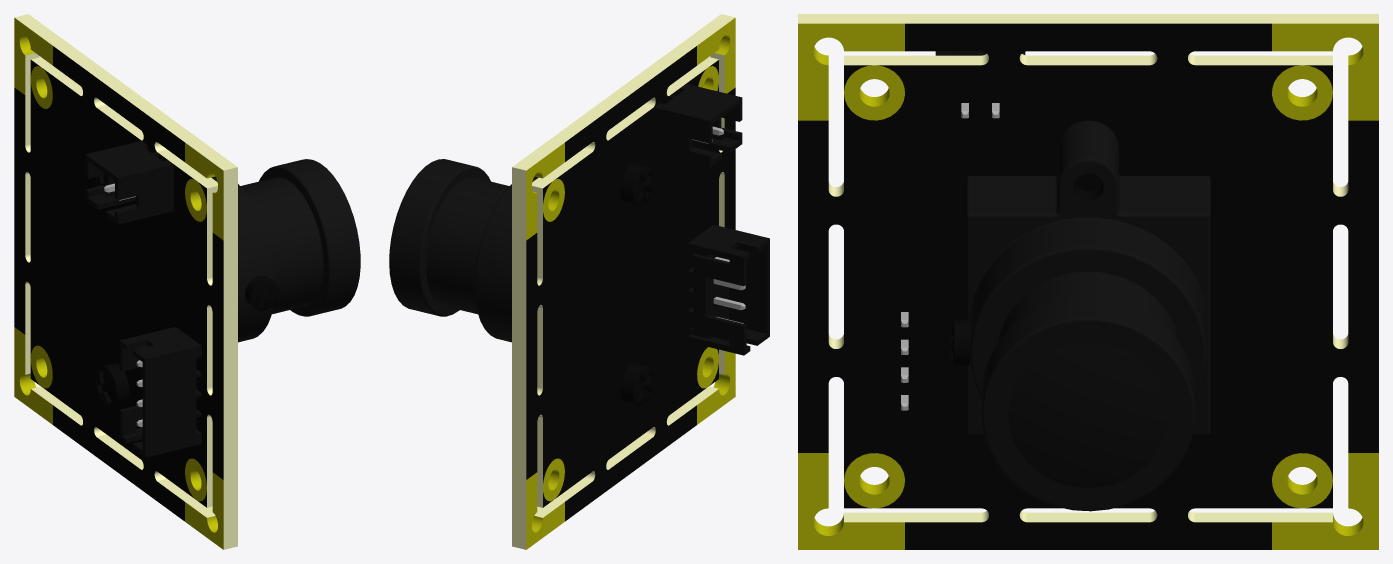
File: camera.obj
3 renders of one model, left to right at view 1: azimuth 30°, elevation 25°; view 2: azimuth 150°, elevation 25°; view 3: azimuth 270°, elevation 25°, orthographic. The views are drawn at different scales.
Parts seen in each view (by area): view 1: USB_Cam_model_ELP-USBFHD01M-L21; view 2: USB_Cam_model_ELP-USBFHD01M-L21; view 3: USB_Cam_model_ELP-USBFHD01M-L21.
Boxes of the visible parts, box(x1,y1,x2,y2) form: USB_Cam_model_ELP-USBFHD01M-L21: box(14, 14, 360, 549); USB_Cam_model_ELP-USBFHD01M-L21: box(389, 14, 769, 549); USB_Cam_model_ELP-USBFHD01M-L21: box(798, 14, 1378, 549).
Bounding box in the file's own units: 0.0279 × 0.038 × 0.038.
